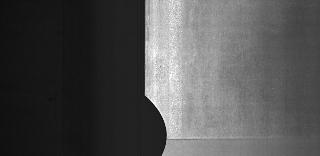welding line: (165, 134, 319, 146)
